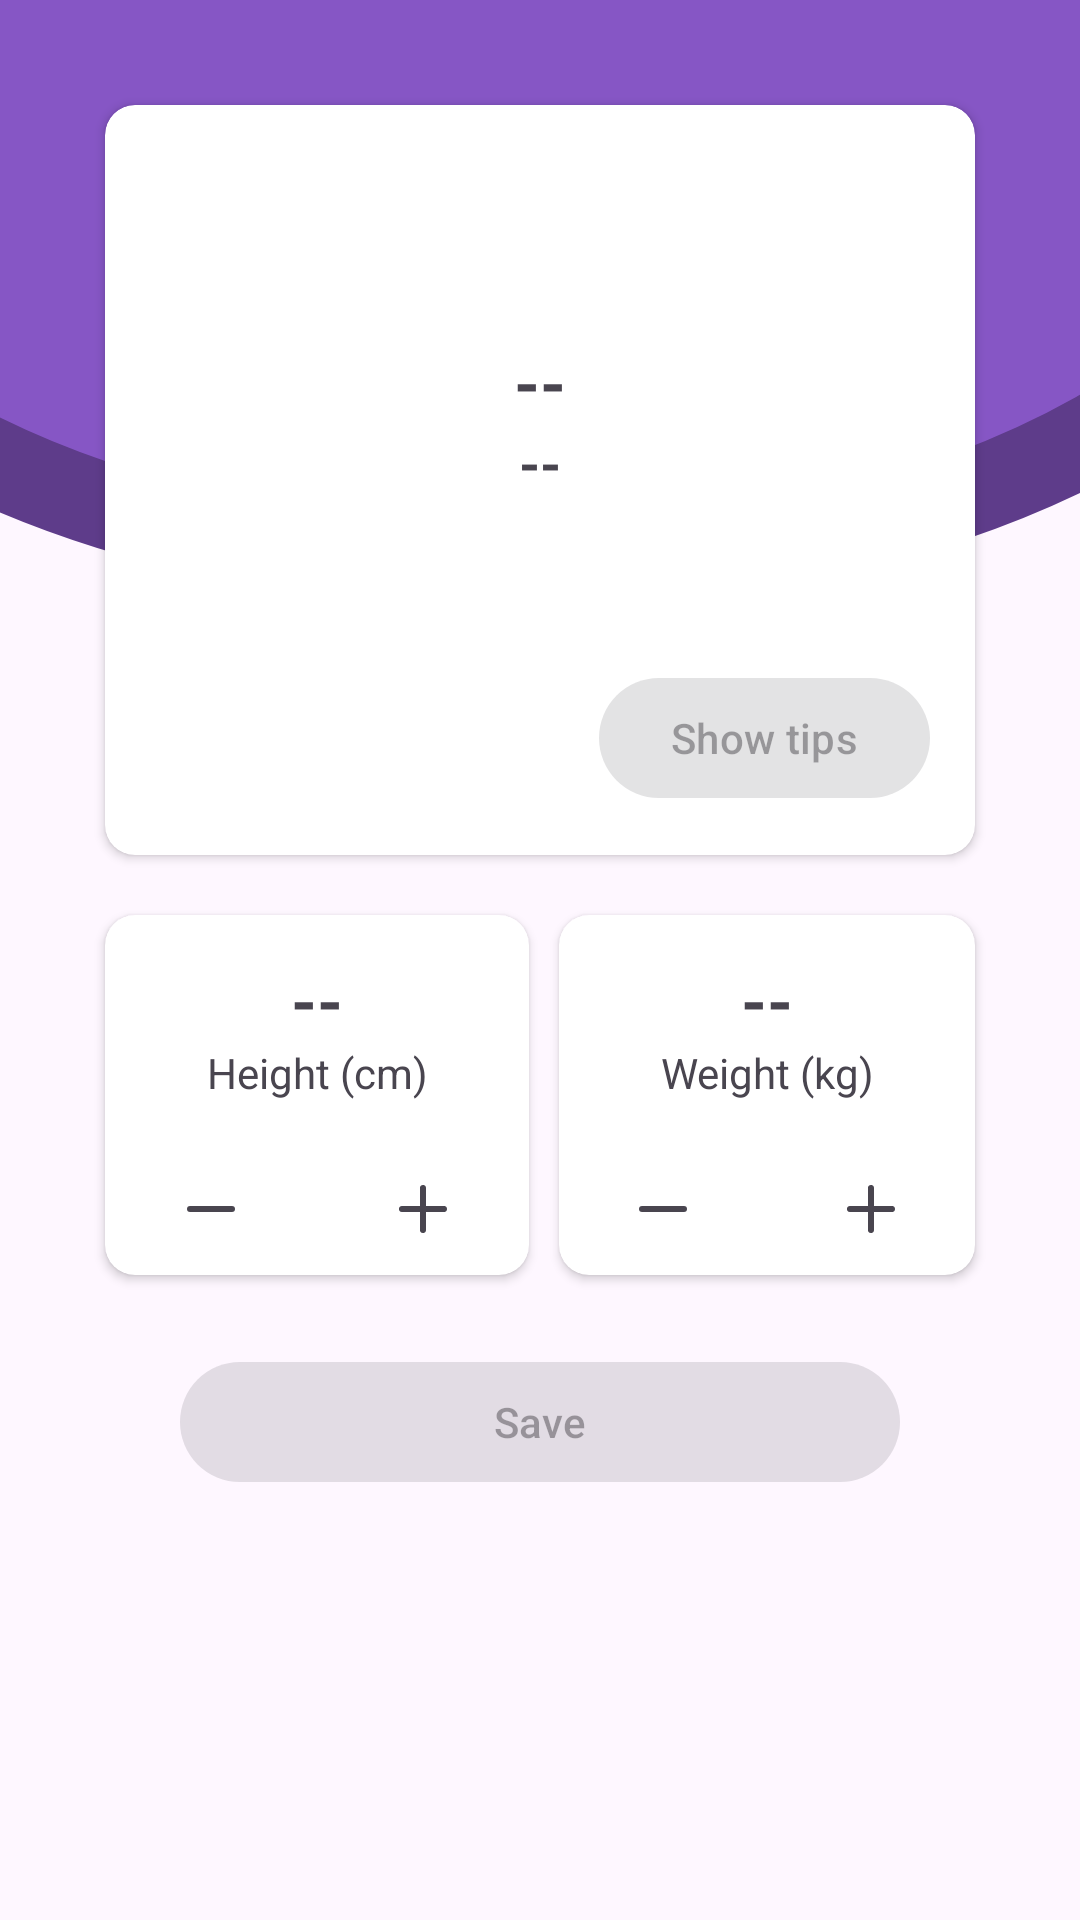

Icon bounding boxes for this 1080×1920 phone screenshot, format bbox=[x1, y1, x2, y2]:
plus: bbox=[399, 1185, 447, 1233], bbox=[847, 1185, 895, 1233]
